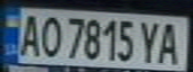1: (100, 17, 121, 62)
5: (115, 17, 139, 63)
7: (63, 13, 84, 60)
8: (81, 16, 103, 61)
A: (154, 19, 187, 65), (15, 10, 42, 57)
O: (36, 12, 63, 59)
Y: (136, 18, 163, 64)
